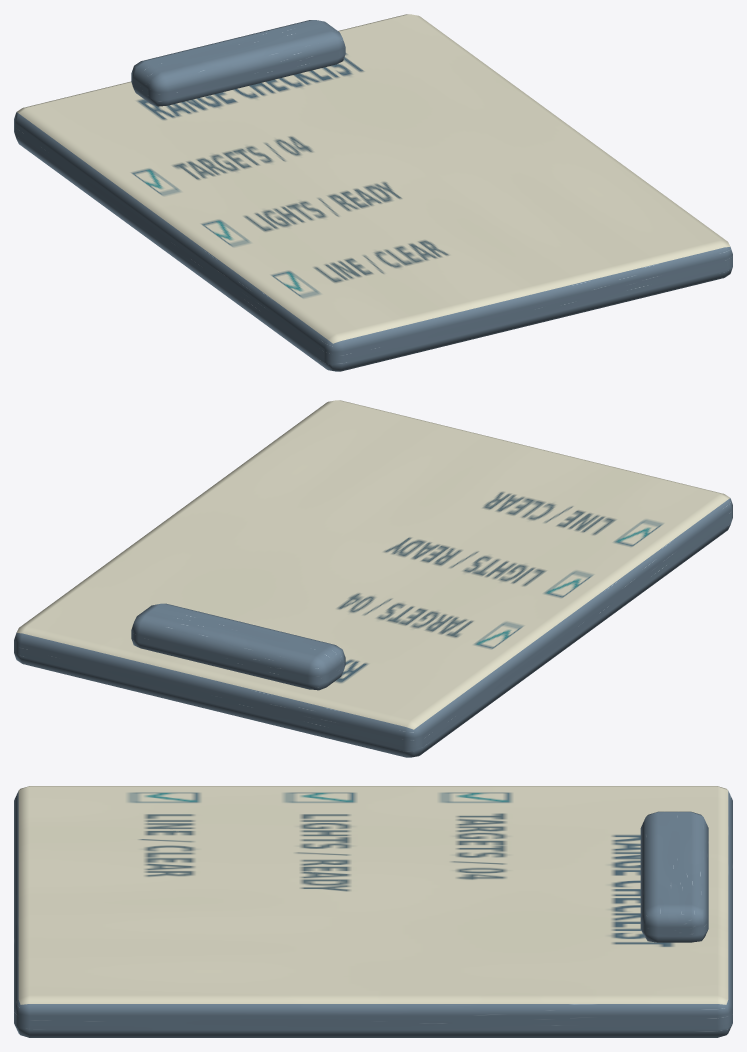
The model's file is SM_Clipboard.glb.
3 views of the same model, one above another, from view 1: azimuth 30°, elevation 25°; view 2: azimuth 150°, elevation 25°; view 3: azimuth 270°, elevation 25° (orthographic). The views are drawn at different scales.
Visible parts, largest first — view 1: SM_Clipboard; view 2: SM_Clipboard; view 3: SM_Clipboard.
Boxes of the visible parts, x1,y1,x2,y2 form: SM_Clipboard: (14, 14, 732, 371); SM_Clipboard: (14, 400, 732, 757); SM_Clipboard: (14, 786, 732, 1037).
Bounding box in the file's own units: 0.27 × 0.0425 × 0.37.
1 material, 1 textured.
